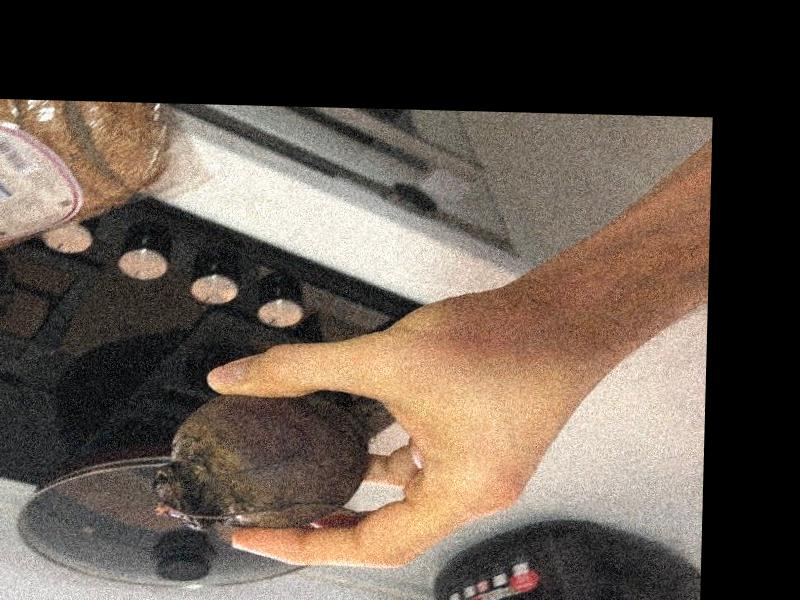Beet: (151, 391, 383, 532)
